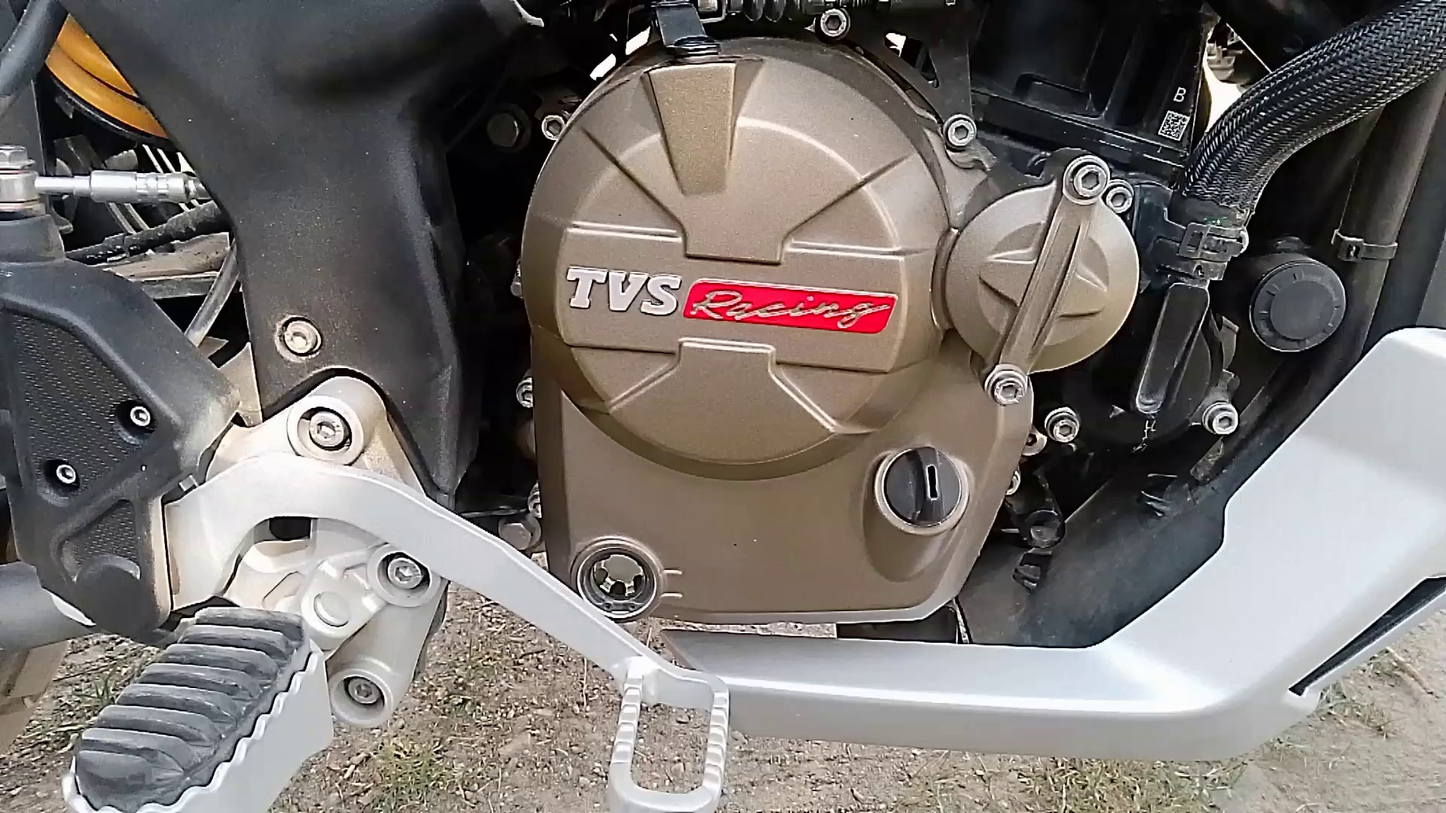engine: (478, 4, 1171, 674)
oil_cap: (859, 427, 985, 551)
oil_marker: (548, 518, 710, 640)
